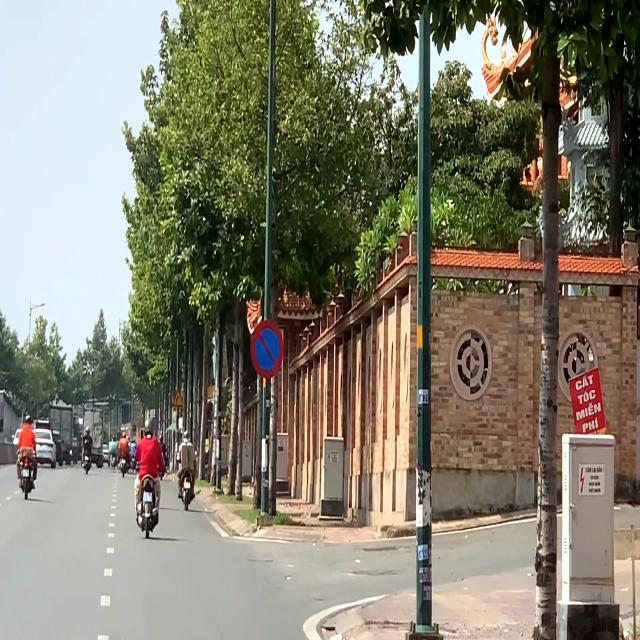P.131a: (250, 318, 284, 379)
W.201b: (172, 389, 183, 406)
